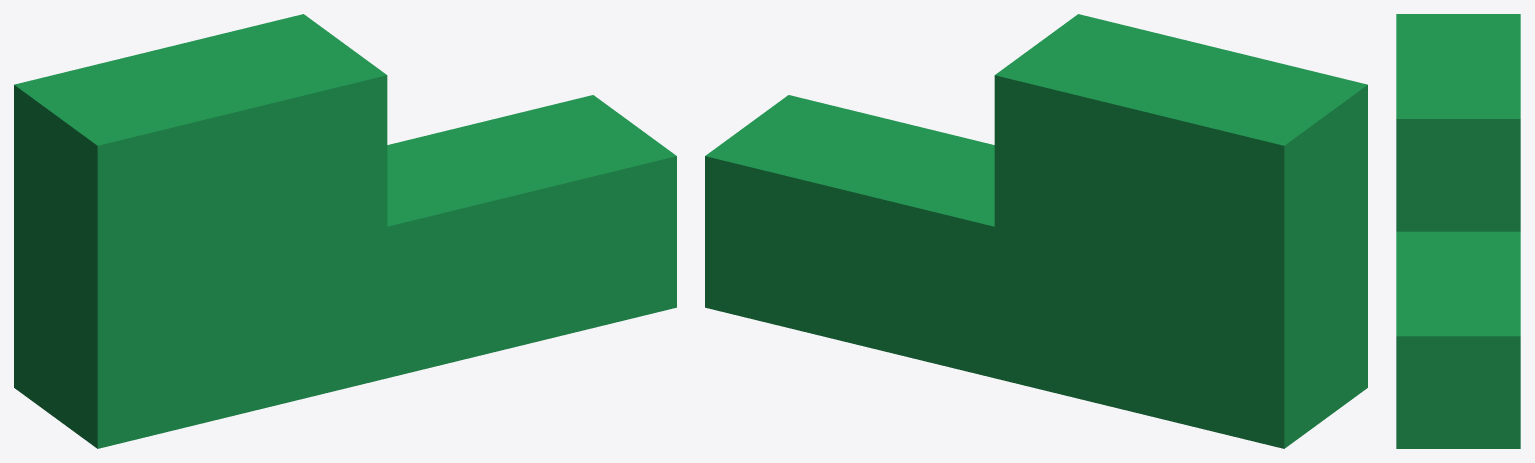
File: TrexLeg.obj
The picture shows the model from 3 angles, left to right: view 1: azimuth 30°, elevation 25°; view 2: azimuth 150°, elevation 25°; view 3: azimuth 270°, elevation 25°; orthographic projection. The views are drawn at different scales.
Size of the model in its own units: 8 by 4 by 2.
1 material, 1 textured.
